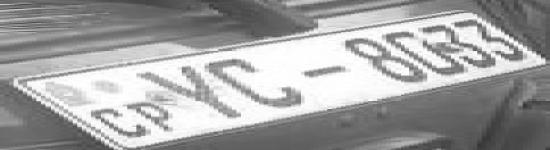-: (291, 61, 361, 81)
0: (366, 27, 484, 80)
3: (407, 20, 512, 73), (444, 16, 545, 66)
8: (322, 34, 446, 88)
C: (182, 53, 331, 111), (76, 102, 174, 142)
P: (118, 94, 212, 138)
Y: (117, 62, 271, 126)
